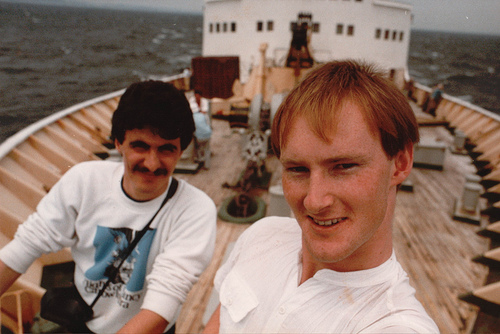without_mask: (272, 112, 417, 269), (109, 117, 190, 198)
